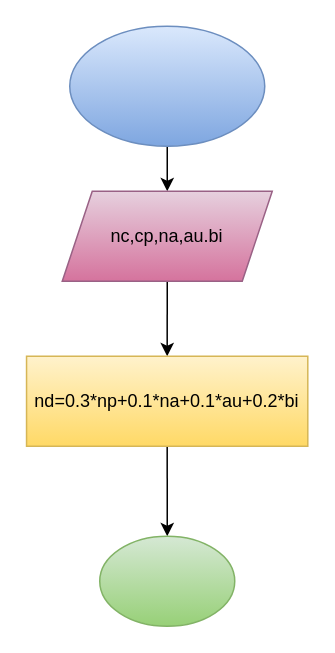
This 335x653 diagram has some shape labels left out. The shapes that lost their labels are listed below. From the top down, each one's centre as x and y in pixels, then its label:
(166,85): Inicio
(166,580): Fin
